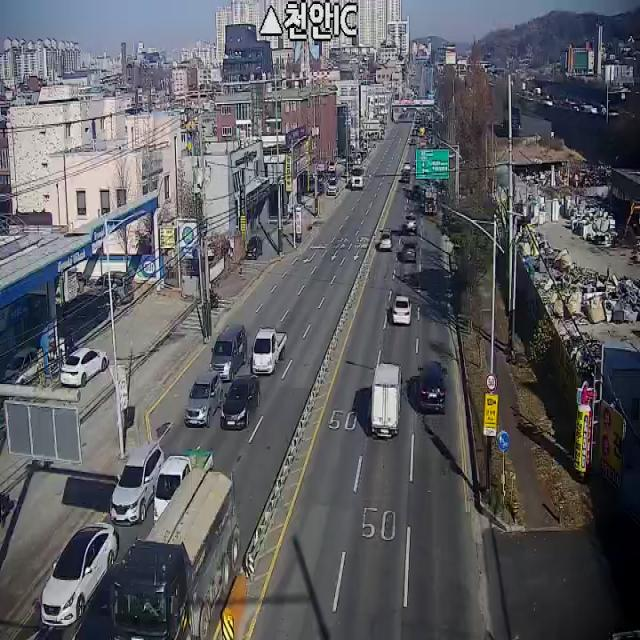Car: (40, 522, 118, 626), (153, 444, 214, 524), (110, 444, 165, 526), (220, 376, 260, 430), (184, 372, 221, 428), (210, 326, 247, 380), (60, 347, 109, 387), (4, 345, 40, 387), (418, 361, 447, 413), (94, 270, 133, 304), (392, 296, 412, 326), (397, 235, 416, 261), (246, 234, 262, 259), (379, 229, 392, 251), (404, 214, 417, 233), (328, 178, 338, 195)
Truck: (111, 468, 239, 640), (372, 364, 401, 438), (252, 328, 288, 374), (425, 183, 437, 213), (351, 168, 364, 188), (402, 160, 411, 182)
